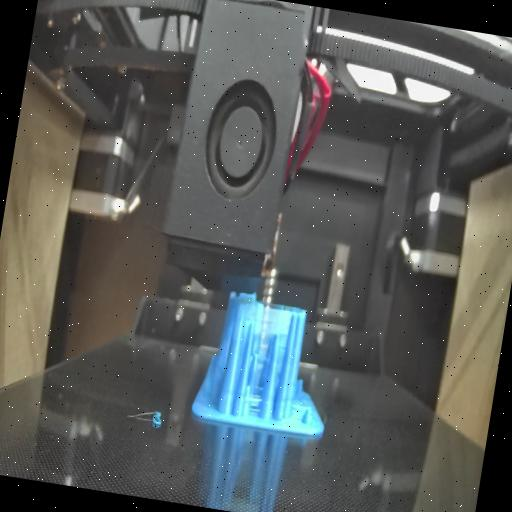stringing: (238, 301, 290, 337), (244, 387, 264, 415)
